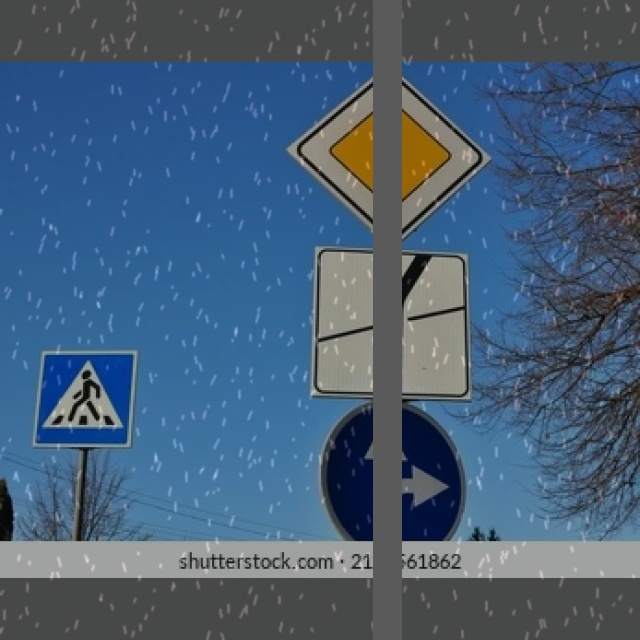Compulsory_Ahead_or_Turn_Right: (326, 407, 466, 540)
